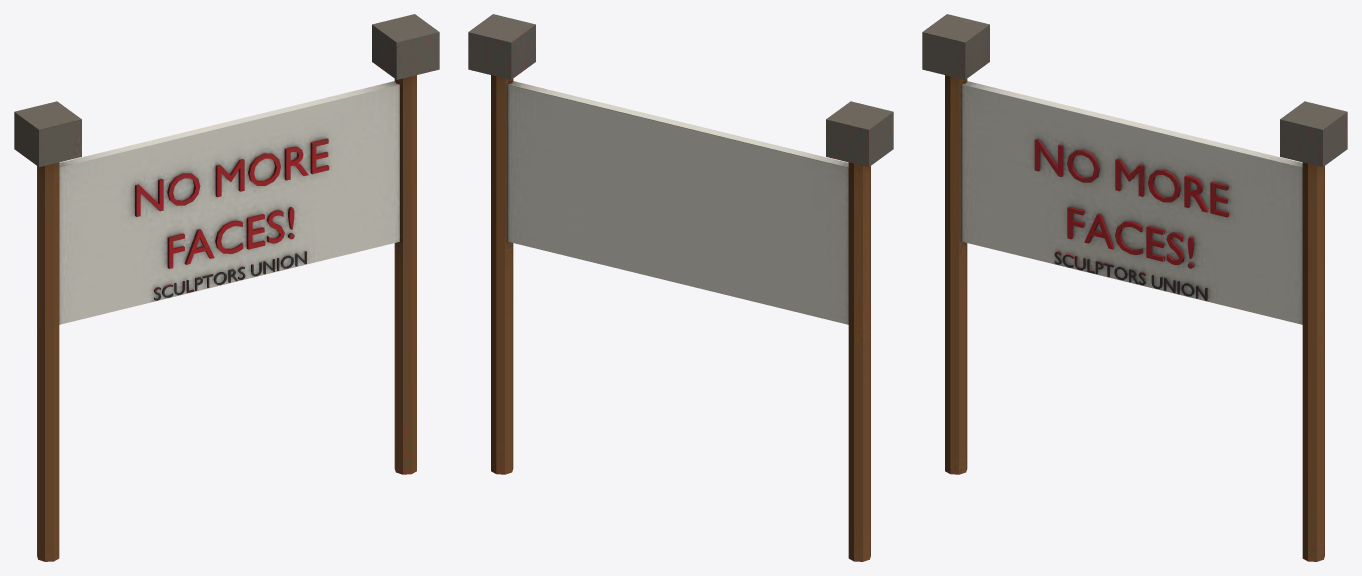
Rendered from cartel_no_caras.glb.
3 views of the same model, side by side, from view 1: azimuth 30°, elevation 25°; view 2: azimuth 150°, elevation 25°; view 3: azimuth 330°, elevation 25° (orthographic).
Parts seen in each view (by area): view 1: cartel_no_caras; view 2: cartel_no_caras; view 3: cartel_no_caras.
Boxes of the visible parts, x1=… form: cartel_no_caras: x1=14, y1=14, x2=439, y2=561; cartel_no_caras: x1=468, y1=14, x2=893, y2=561; cartel_no_caras: x1=922, y1=14, x2=1347, y2=561.
Size of the model in its own units: 2.8 by 2.95 by 0.3.
1 material, 1 textured.
